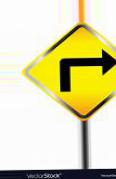right: (23, 25, 116, 121)
